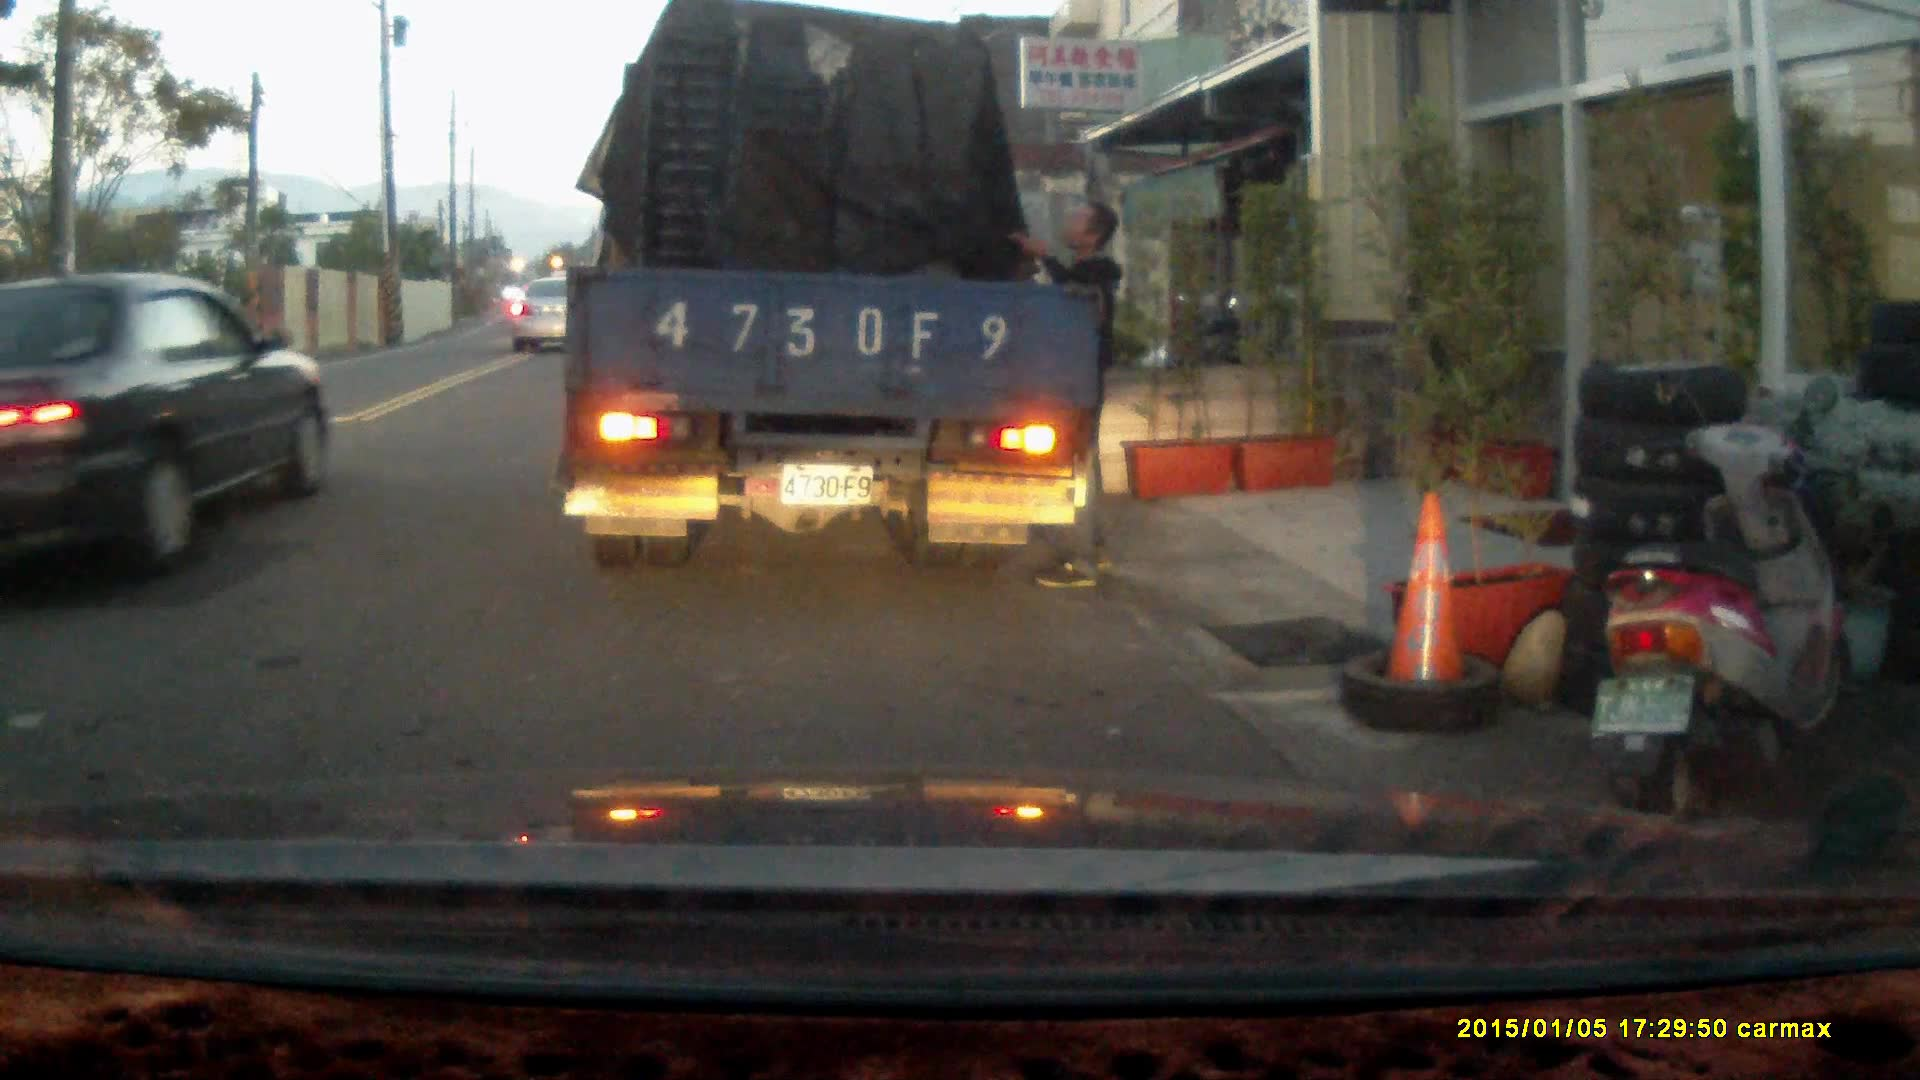pedestrian: (1002, 198, 1122, 590)
vehicle: (565, 23, 1097, 572), (1, 270, 335, 594), (507, 271, 595, 353)
